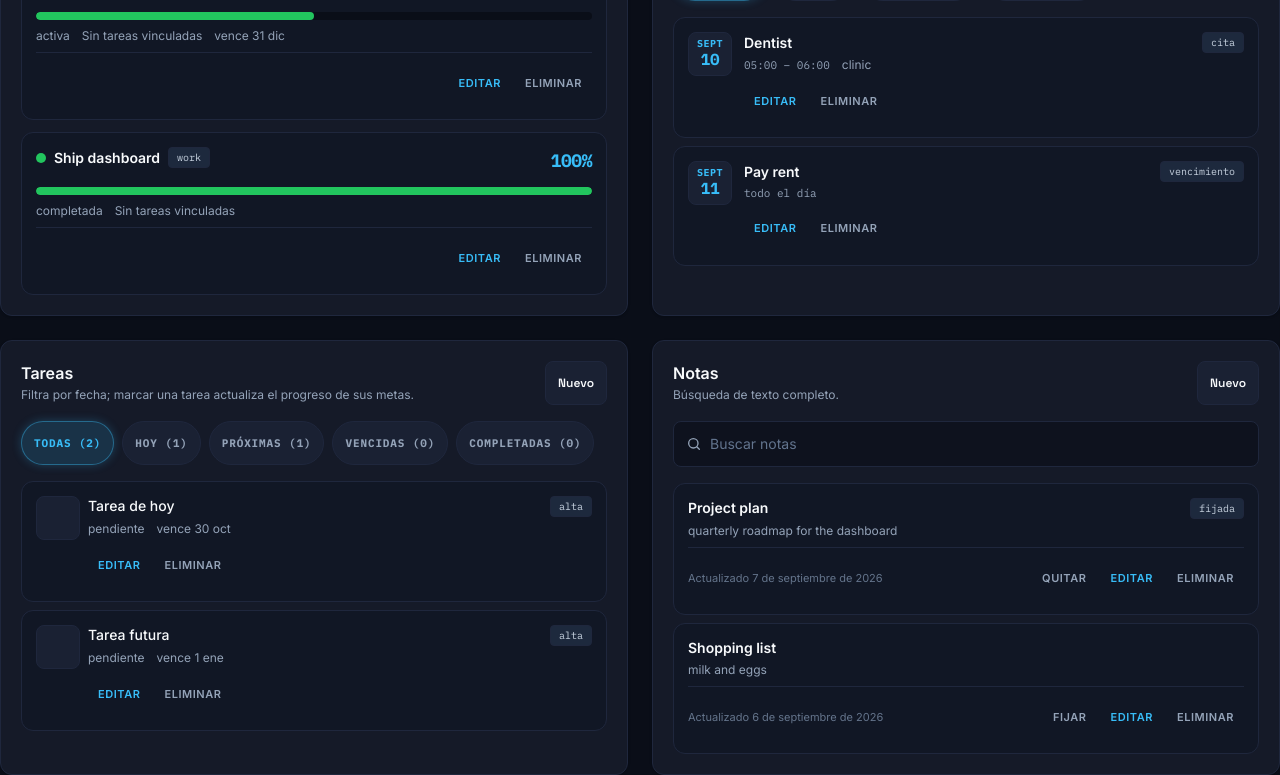
Test: productivity content cards (T5b) › filters the tasks card and states a zero-count pill honestly
(page scrolled)
Check: the text "Tarea de hoy" is shown, box [88,497,174,514]
Check: the button "Hoy (1)" is shown, box [122,421,201,465]
Click the button "Vencidas (0)": (390, 443) [332,421,448,465]
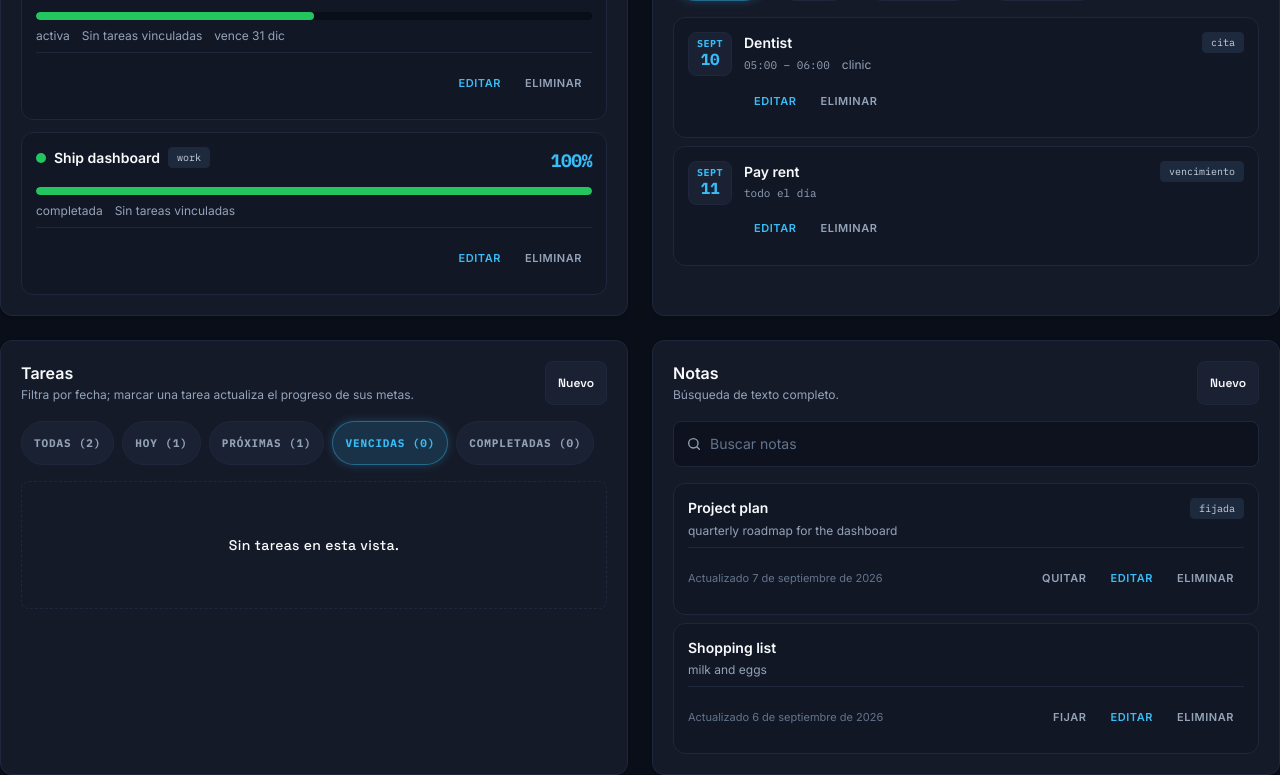
Check: the text "Sin tareas en esta vista." is shown, box [229,535,399,555]
Check: the text "Tarea de hoy" is gone
